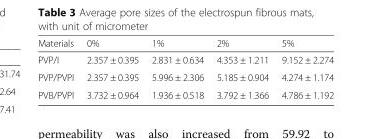table: (37, 37, 333, 100)
table column: (79, 37, 144, 100), (144, 37, 209, 100), (209, 37, 274, 100), (274, 37, 333, 100), (37, 37, 79, 100)
table column header: (37, 37, 333, 50)
table row: (37, 50, 333, 68), (37, 68, 333, 85), (37, 85, 333, 100), (37, 37, 333, 50)
